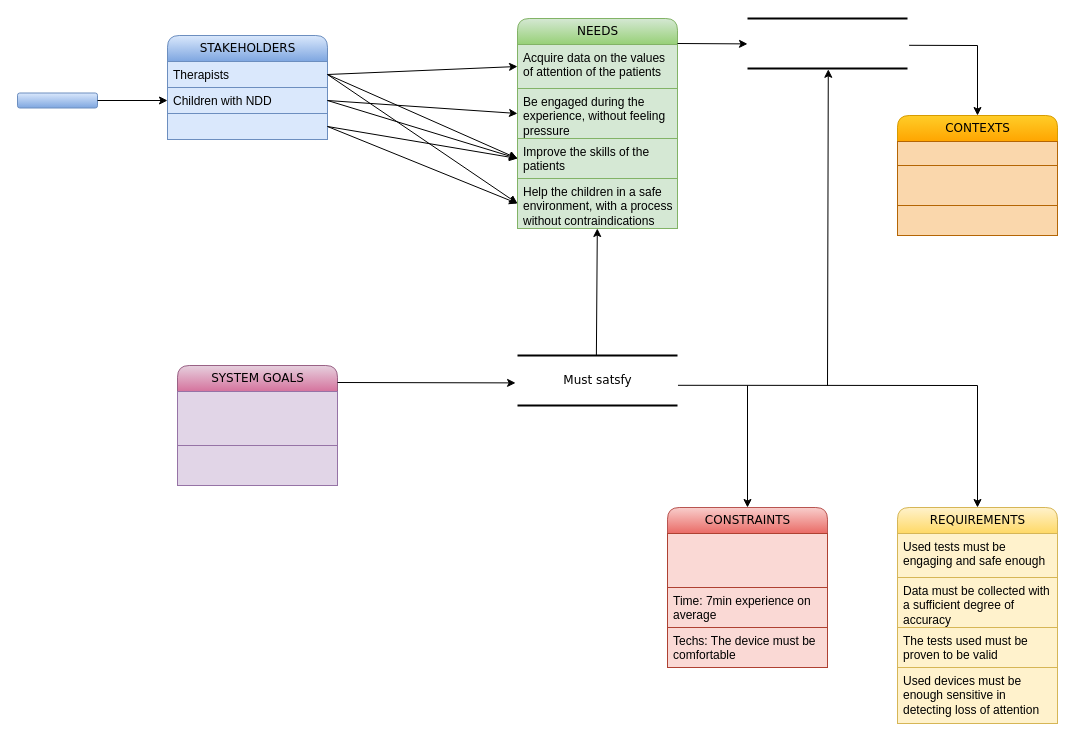
Some shapes in this 1075 by 743 pixel diagram are drawn without their labels. The centre of each missing label's shape, as x and y in pixels:
Acquire data from the tests to help the therapist: [257,465]
Create attention tests to detect loss of attention in the children: [257,418]
END USERS: [57,100]
Families of the children: [247,126]
In: [827,43]
Physical: Therapist studio: [977,153]
Social: Individually: [977,220]
Techs: A 360° VR with controllers and eye tracking sensor: [747,560]
Temporal: Repeated over time: [977,185]
